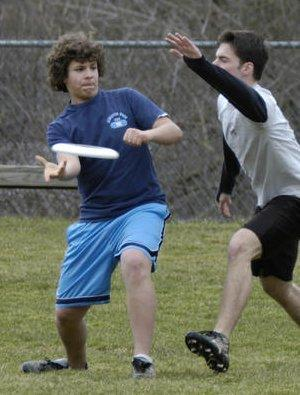person: (23, 33, 184, 381)
